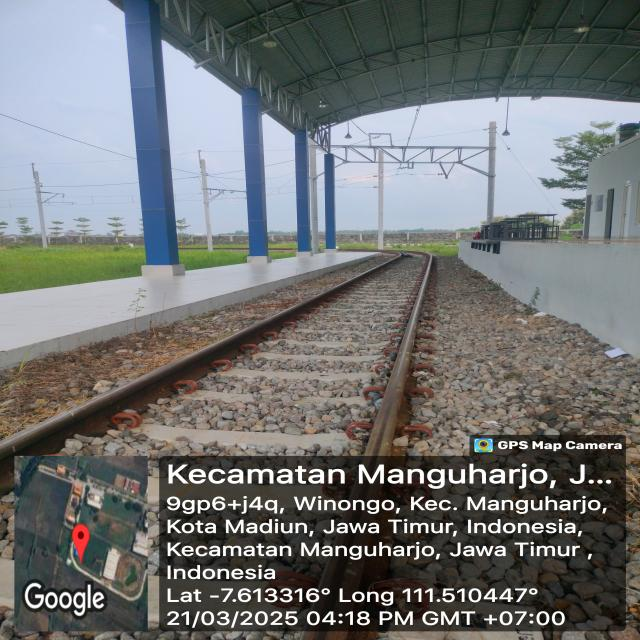rail-detection: (0, 253, 409, 492), (364, 252, 433, 455)
